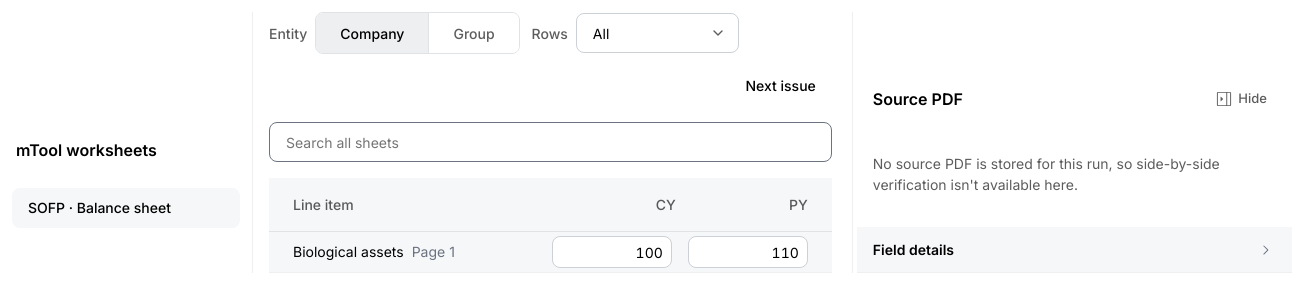
ConceptsPage › renders CY/PY values side by side in the linear tree
This screenshot has width=1304, height=290.
Check: the field with test id "value-input-leaf-1-CY" holds "100", box x1=552 y1=236 x2=672 y2=268
Check: the field with test id "value-input-leaf-1-PY" holds "110", box x1=688 y1=236 x2=808 y2=268
# Group scope updates both visible period columns.
Click the tab with test id "scope-btn-Group": point(474, 33) x1=429 y1=13 x2=519 y2=53
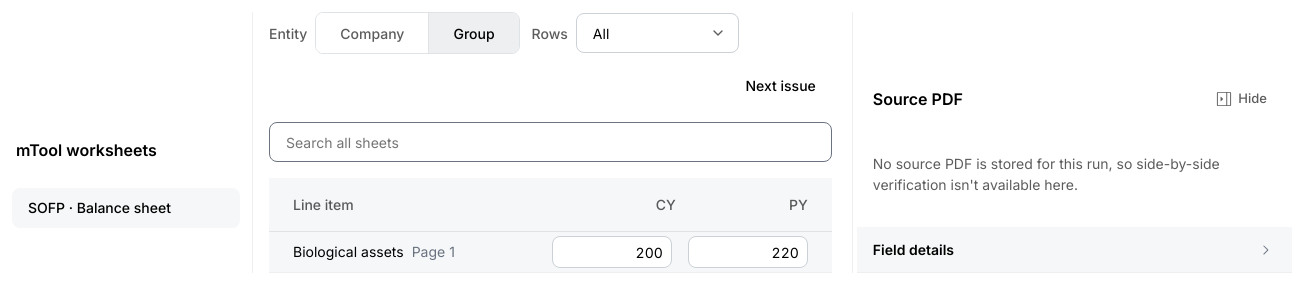
Check: the field with test id "value-input-leaf-1-CY" holds "200", box x1=552 y1=236 x2=672 y2=268
Check: the field with test id "value-input-leaf-1-PY" holds "220", box x1=688 y1=236 x2=808 y2=268
